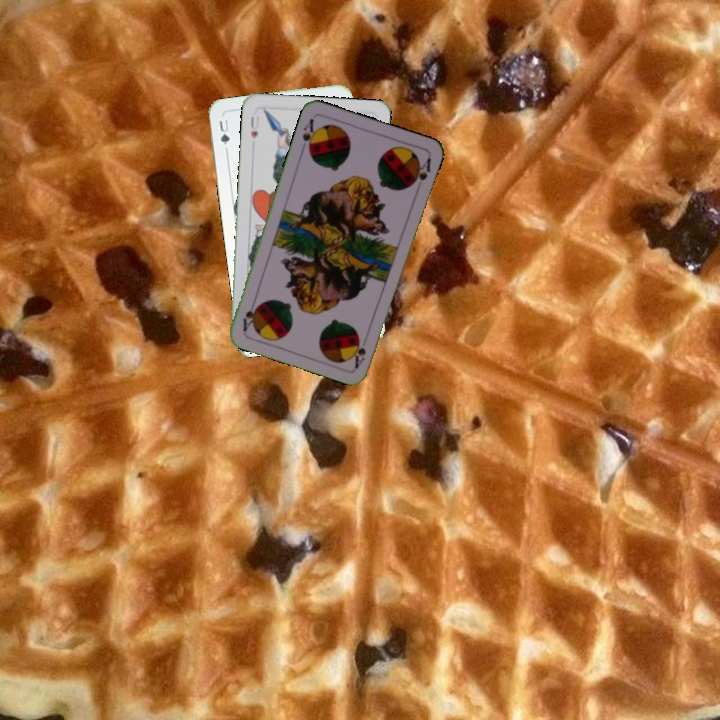GU: (215, 114, 232, 147)
HU: (247, 112, 262, 141)
SA: (298, 114, 320, 156), (350, 336, 368, 371)
